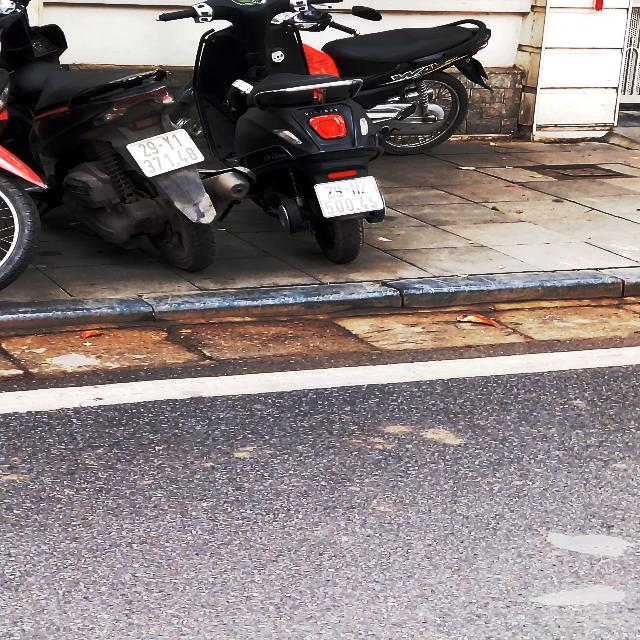license_plate: (128, 129, 207, 180), (313, 176, 387, 220)
